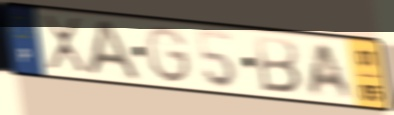5: (194, 26, 241, 92)
A: (84, 17, 145, 84), (306, 41, 356, 101)
B: (253, 33, 304, 96)
G: (144, 23, 194, 86)
X: (39, 12, 92, 78)
